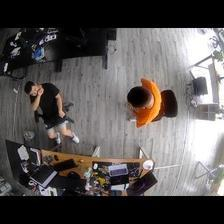normal: (22, 77, 80, 145), (123, 75, 164, 129)
